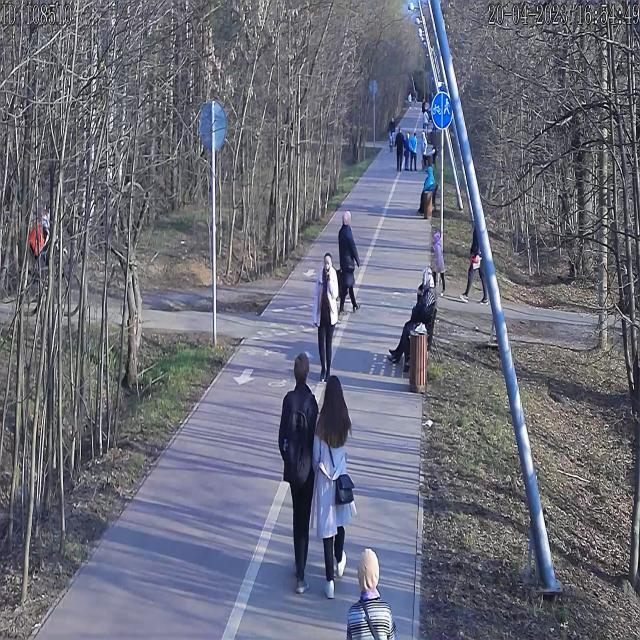person: (278, 354, 316, 594), (312, 374, 350, 598), (346, 547, 399, 640), (313, 251, 339, 383), (338, 210, 361, 316)
